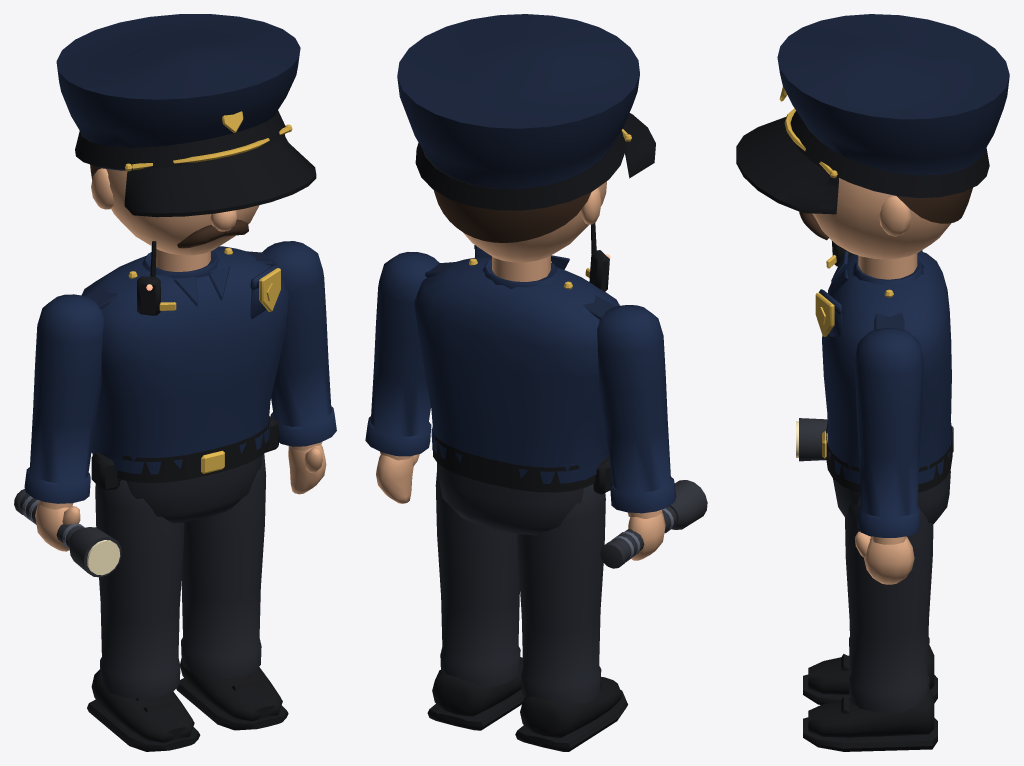
Rendered from Character_Class_security_guard.fbx.
3 views of the same model, side by side, from view 1: azimuth 30°, elevation 25°; view 2: azimuth 150°, elevation 25°; view 3: azimuth 270°, elevation 25° (orthographic).
Visible parts, largest first — view 1: Torso, CapCrown, LegR, CapBand, LegL, ArmR, ArmL, Head, Hips, DutyBelt, LegR_Shoe, LegL_Shoe (+12 smaller); view 2: Torso, CapCrown, LegR, ArmR, LegL, ArmL, CapBand, Hips, Hair, Head, DutyBelt, LegR_Shoe (+8 smaller); view 3: CapCrown, Torso, ArmL, LegL, CapBand, Head, LegL_Shoe, HandL, LegL_Sole, LegR_Shoe, Hips, Hair (+5 smaller).
Boxes of the visible parts, x1,y1,x2,y2 form: Torso: [82, 246, 289, 474]; CapCrown: [56, 14, 300, 170]; LegR: [95, 479, 184, 698]; CapBand: [75, 110, 316, 217]; LegL: [181, 454, 266, 678]; ArmR: [24, 294, 103, 503]; ArmL: [262, 241, 336, 446]; Head: [91, 168, 259, 271]; Hips: [119, 455, 262, 523]; DutyBelt: [91, 416, 278, 491]; LegR_Shoe: [91, 669, 194, 742]; LegL_Shoe: [180, 658, 282, 721]; Torso: [414, 257, 619, 483]; CapCrown: [397, 14, 639, 210]; LegR: [517, 484, 605, 703]; ArmR: [597, 305, 676, 513]; LegL: [435, 469, 520, 686]; ArmL: [365, 252, 439, 456]; CapBand: [415, 113, 655, 210]; Hips: [437, 463, 584, 535]; Hair: [434, 190, 591, 242]; Head: [463, 181, 606, 281]; DutyBelt: [432, 427, 612, 494]; LegR_Shoe: [520, 677, 622, 737]; CapCrown: [777, 14, 1009, 197]; Torso: [822, 251, 951, 484]; ArmL: [854, 328, 923, 537]; LegL: [845, 496, 933, 712]; CapBand: [736, 111, 989, 214]; Head: [812, 178, 951, 279]; LegL_Shoe: [808, 688, 934, 737]; HandL: [854, 531, 914, 584]; LegL_Sole: [803, 696, 937, 751]; LegR_Shoe: [808, 645, 934, 694]; Hips: [833, 470, 950, 523]; Hair: [897, 188, 972, 223].
Bounding box in the file's own units: 253 × 536 × 200.
